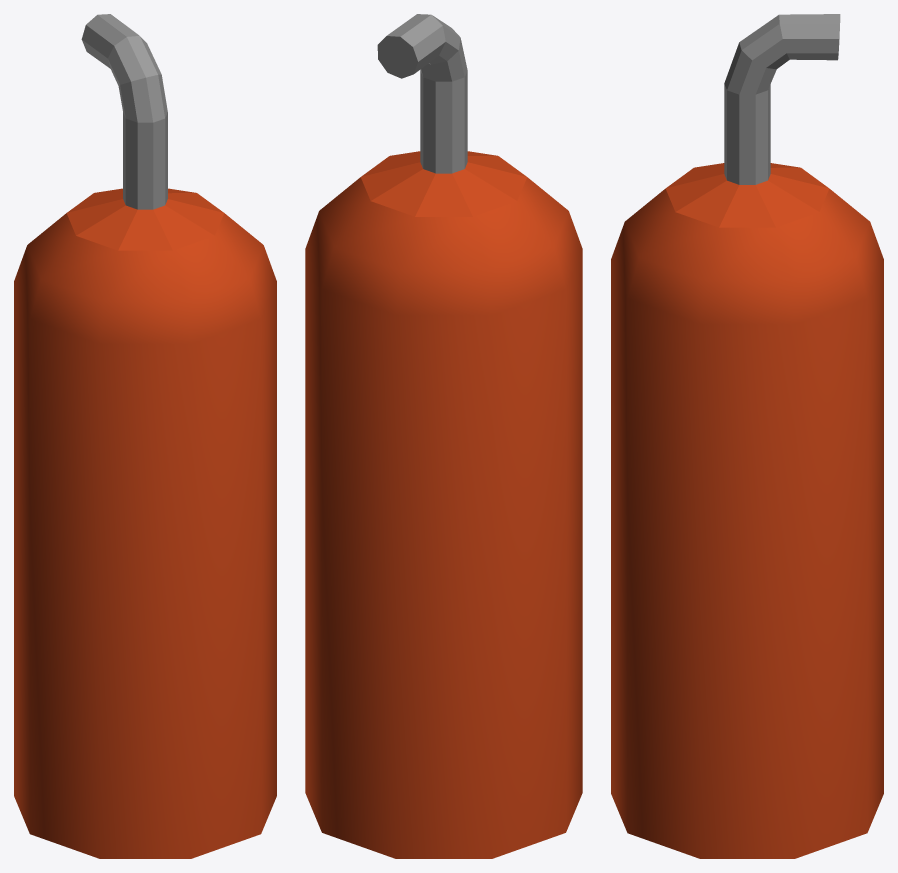
File: MSH_SoldadorProvisional_.FBX
The picture shows the model from 3 angles, left to right: view 1: azimuth 30°, elevation 25°; view 2: azimuth 150°, elevation 25°; view 3: azimuth 270°, elevation 25°; orthographic projection. The views are drawn at different scales.
Parts seen in each view (by area): view 1: Soldador; view 2: Soldador; view 3: Soldador.
Boxes of the visible parts, x1,y1,x2,y2 form: Soldador: (14,14,276,858); Soldador: (305,14,582,858); Soldador: (611,14,883,858).
Size of the model in its own units: 20.78 by 67.25 by 21.1.
